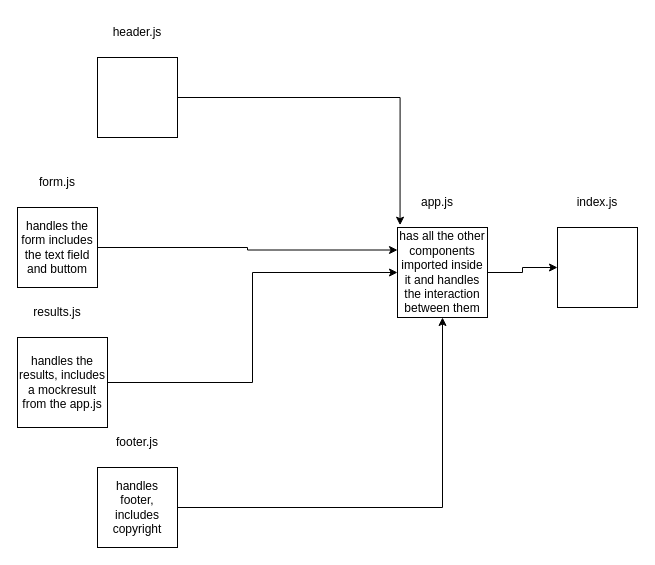
This 655x565 diagram has some shape labels left out. Each missing label, with the box of its shape:
handles the header, include the header text: (96, 56, 178, 138)
renders the page inside a root element: (556, 226, 638, 308)
